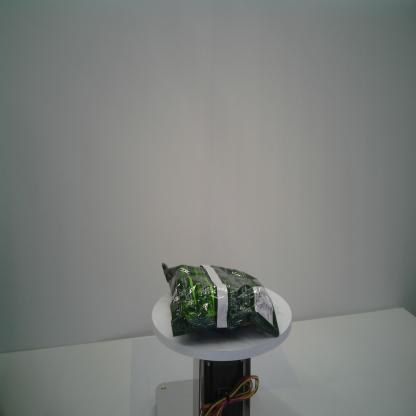Instant Noodles: (159, 259, 281, 342)
